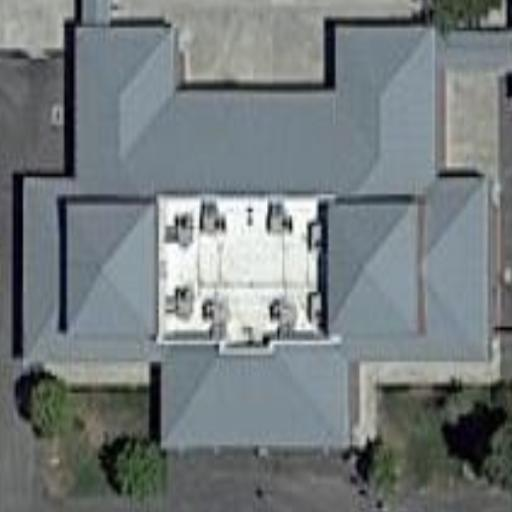Slope-Flat-Roof: (24, 26, 491, 451)
